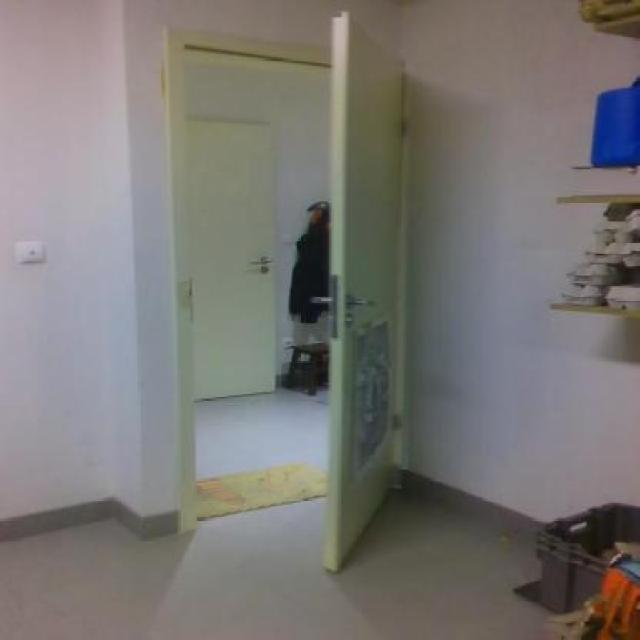door_handle: (344, 291, 385, 319)
